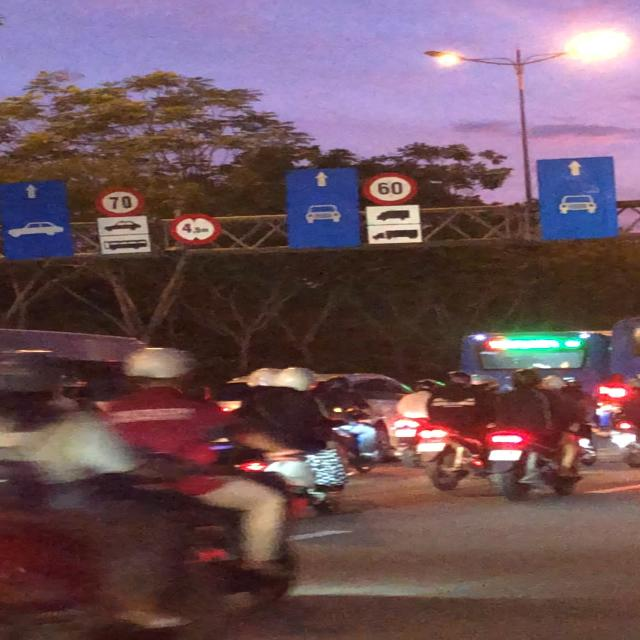Bien bao han che chieu cao: (167, 211, 230, 250)
Bien bao toc do toi da cho phep: (355, 168, 424, 206), (90, 184, 153, 220)
